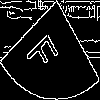F: (24, 25, 65, 78)
